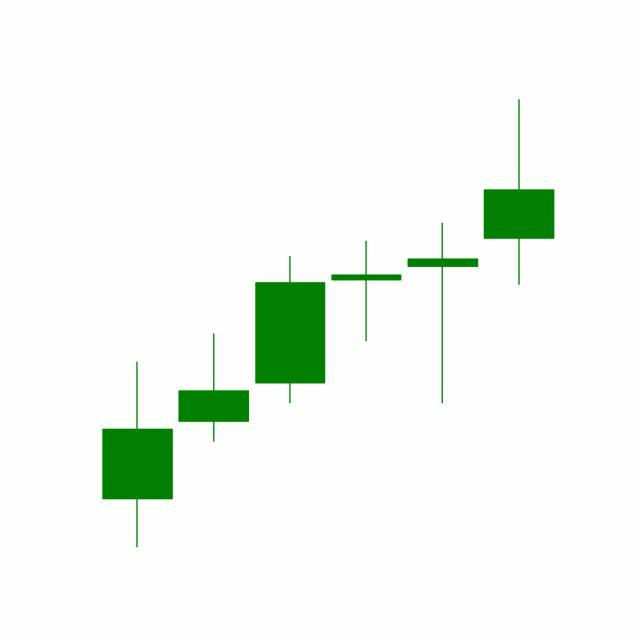Advance Block: (252, 221, 482, 407)
